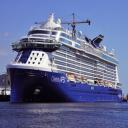cruises: (6, 13, 125, 105)
